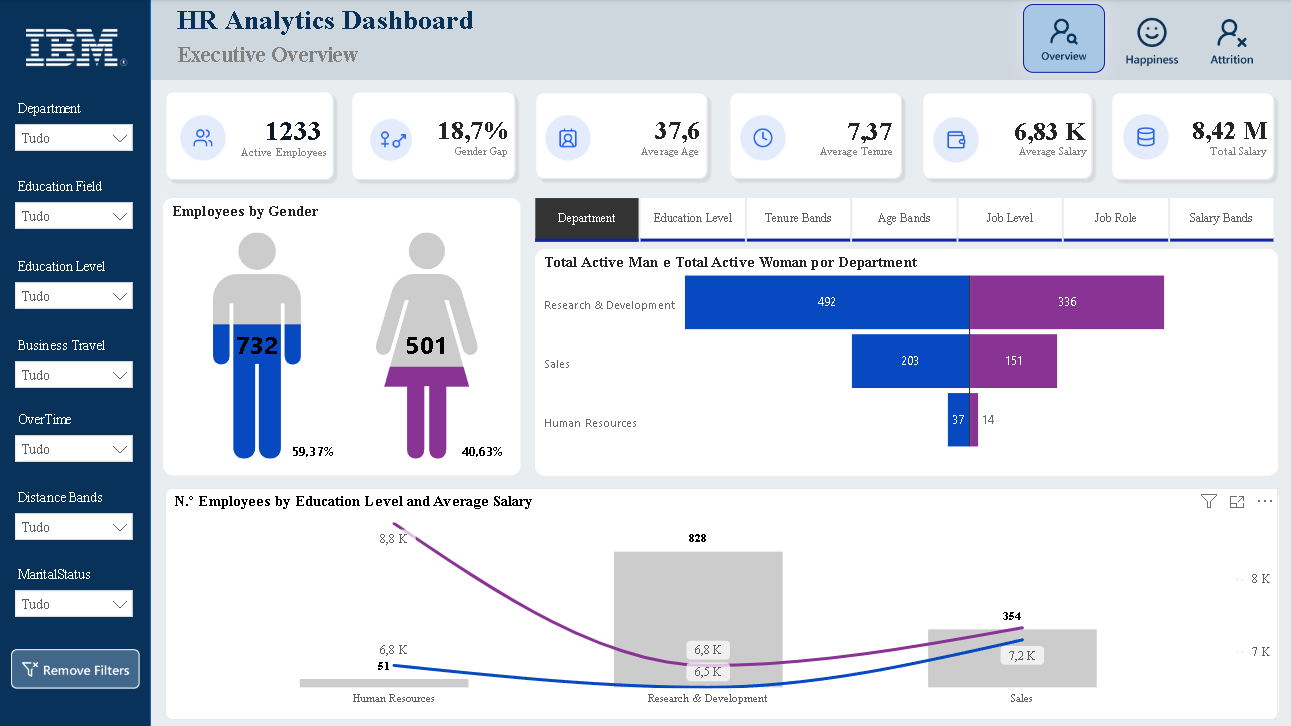

What the dashboard file says about the page in this screenshot:
{"tool":"powerbi","page":{"name":"Overview","canvas":[1280,720],"ordinal":1},"visuals":[{"type":"shape","box":[128.6,0,1152,80],"z":0},{"type":"shape","box":[0,0,152,720],"z":1000},{"type":"shape","box":[343.7,84.7,174.3,100],"z":1000,"group":"g2"},{"type":"image","box":[23.1,8,111.7,79.8],"z":2000},{"type":"shape","box":[525.6,85.7,182.5,98],"z":2000,"group":"g3"},{"type":"shape","box":[716.8,85.6,183,98],"z":3000,"group":"g4"},{"type":"slicer","fields":{"Values":["Fato.OverTime"]},"box":[8,403,135.7,77.8],"z":3000},{"type":"textbox","box":[172.4,0,360.8,51.4],"z":4000},{"type":"shape","box":[907.8,85.7,180.3,98],"z":4000,"group":"g5"},{"type":"textbox","box":[172.4,38.8,230.7,37.7],"z":5000},{"type":"shape","box":[1094.4,85.7,173.4,98.9],"z":5000,"group":"g6"},{"type":"cardVisual","fields":{"Data":["_Medidas.Gender Gap New"]},"box":[388.5,100.8,127.7,50],"z":6000,"group":"g2"},{"type":"slicer","fields":{"Values":["D_BusinessTravel.BusinessTravel"]},"box":[8,329.8,135.7,74],"z":6000},{"type":"shape","box":[160,84.4,178.6,100],"z":7000,"group":"g1"},{"type":"slicer","fields":{"Values":["D_Education.EducationLevel"]},"box":[8,251.9,135.7,78.8],"z":7000},{"type":"cardVisual","fields":{"Data":["_Medidas.Average Age"]},"box":[567.1,102.2,139.5,45.5],"z":8000,"group":"g3"},{"type":"slicer","fields":{"Values":["Fato.Distancy Bands"]},"box":[8,480,135.7,76.9],"z":8000},{"type":"slicer","fields":{"Values":["D_MaritalStatus.MaritalStatus"]},"box":[8,556,135.7,79.7],"z":9000},{"type":"image","box":[8.5,629,136.6,64.5],"z":10000},{"type":"image","box":[1013.7,4.9,81,68.5],"z":11000},{"type":"cardVisual","fields":{"Data":["_Medidas.Total Monthly Salary"]},"box":[1162.3,103.9,110.8,44.6],"z":11000,"group":"g6"},{"type":"image","box":[1098.8,8.5,82.6,63.6],"z":12000},{"type":"textbox","box":[393.2,137.5,116.9,41.9],"z":12000,"group":"g2"},{"type":"textbox","box":[762.5,136.9,127.5,43.1],"z":12500,"group":"g4"},{"type":"image","box":[1179.4,8.5,81.6,63.6],"z":13000},{"type":"slicer","fields":{"Values":["D_Department.Department"]},"box":[8,96,135.7,77.8],"z":14000},{"type":"textbox","box":[570.7,136.7,127.5,43.1],"z":14000,"group":"g3"},{"type":"textbox","box":[943.8,137.5,138.8,45],"z":14375,"group":"g5"},{"type":"cardVisual","fields":{"Data":["_Medidas.AVG SALARY"]},"box":[951.6,103.9,135.4,46.2],"z":14750,"group":"g5"},{"type":"slicer","fields":{"Values":["D_Education.EducationField"]},"box":[8,173,135.7,79.7],"z":15000},{"type":"PBI_CV_73744D90_4DC9_4F18_8BA5_EE8FA5C98035","title":"Employees by Gender","fields":{"Columns":["D_Gender.Gender"],"Values":["_Medidas.Distrib. Gender %","_Medidas.Total Active Employees"]},"box":[164.4,196.7,353.3,274.4],"z":16000},{"type":"textbox","box":[1110.8,137.5,148.3,45],"z":17000,"group":"g6"},{"type":"slicer","fields":{"Values":["Parameter Overview.Parameter Overview"]},"box":[508.9,190,771.1,56.7],"z":17000},{"type":"image","box":[351,111.3,77,55],"z":18000,"group":"g2"},{"type":"TornadoChart1452517688218","fields":{"Category":["D_Department.Department"],"Values":["_Medidas.Total Homens Ativos","_Medidas.Total Mulheres Ativas"]},"box":[531.1,246.7,734.4,224.4],"z":18000},{"type":"textbox","box":[211.9,137.5,118.8,41.9],"z":19000,"group":"g1"},{"type":"lineStackedColumnComboChart","title":" N.º Employees by Education Level and Average Salary ","fields":{"Category":["D_Department.Department"],"Y":["_Medidas.Total Active Employees"],"Y2":["_Medidas.Average Salary Male","_Medidas.Average Salary Female"]},"box":[165.6,483.3,1100,228.9],"z":19000},{"type":"group","id":"g1","title":"Grupo 1","box":[160,84.4,188.5,100],"z":20000},{"type":"image","box":[525.6,109.2,77,55],"z":20000,"group":"g3"},{"type":"group","id":"g2","title":"Grupo 2","box":[343.7,84.7,174.3,100],"z":21000},{"type":"image","box":[717.9,109,77,55],"z":21000,"group":"g4"},{"type":"group","id":"g3","title":"Grupo 3","box":[525.6,85.7,182.5,98],"z":22000},{"type":"image","box":[908.8,111,77.9,55],"z":22000,"group":"g5"},{"type":"group","id":"g4","title":"Grupo 4","box":[716.8,85.6,183,98],"z":23000},{"type":"image","box":[1096.4,108.9,77,55],"z":23000,"group":"g6"},{"type":"group","id":"g5","title":"Grupo 5","box":[907.8,85.7,180.3,98],"z":24000},{"type":"group","id":"g6","title":"Grupo 6","box":[1094.4,85.7,178.6,98.9],"z":25000},{"type":"image","box":[165.4,108.7,77,55.5],"z":25000,"group":"g1"},{"type":"cardVisual","fields":{"Data":["_Medidas.Active Employees"]},"box":[237.7,103.8,110.8,44.6],"z":27000,"group":"g1"},{"type":"cardVisual","fields":{"Data":["_Medidas.Average Tenure"]},"box":[762.3,104.7,133.8,43.8],"z":45000,"group":"g4"}]}

Visuals, with their boxes on the page's 1280x720 design canvas (x1, y1, x2, y2). These are canvas units, not pixel positions in the 1291x726 screenshot, which may show the page scaled, cropped or inside an application window:
shape: (129,0,1281,80)
shape: (0,0,152,720)
shape: (344,85,518,185)
image: (23,8,135,88)
shape: (526,86,708,184)
shape: (717,86,900,184)
slicer - Fato.OverTime: (8,403,144,481)
textbox: (172,0,533,51)
shape: (908,86,1088,184)
textbox: (172,39,403,76)
shape: (1094,86,1268,185)
cardVisual - _Medidas.Gender Gap New: (388,101,516,151)
slicer - D_BusinessTravel.BusinessTravel: (8,330,144,404)
shape: (160,84,339,184)
slicer - D_Education.EducationLevel: (8,252,144,331)
cardVisual - _Medidas.Average Age: (567,102,707,148)
slicer - Fato.Distancy Bands: (8,480,144,557)
slicer - D_MaritalStatus.MaritalStatus: (8,556,144,636)
image: (8,629,145,694)
image: (1014,5,1095,73)
cardVisual - _Medidas.Total Monthly Salary: (1162,104,1273,148)
image: (1099,8,1181,72)
textbox: (393,138,510,179)
textbox: (762,137,890,180)
image: (1179,8,1261,72)
slicer - D_Department.Department: (8,96,144,174)
textbox: (571,137,698,180)
textbox: (944,138,1083,182)
cardVisual - _Medidas.AVG SALARY: (952,104,1087,150)
slicer - D_Education.EducationField: (8,173,144,253)
"Employees by Gender" PBI_CV_73744D90_4DC9_4F18_8BA5_EE8FA5C98035: (164,197,518,471)
textbox: (1111,138,1259,182)
slicer - Parameter Overview.Parameter Overview: (509,190,1280,247)
image: (351,111,428,166)
TornadoChart1452517688218 - D_Department.Department x _Medidas.Total Homens Ativos: (531,247,1266,471)
textbox: (212,138,331,179)
" N.º Employees by Education Level and Average Salary " lineStackedColumnComboChart: (166,483,1266,712)
"Grupo 1" group: (160,84,348,184)
image: (526,109,603,164)
"Grupo 2" group: (344,85,518,185)
image: (718,109,795,164)
"Grupo 3" group: (526,86,708,184)
image: (909,111,987,166)
"Grupo 4" group: (717,86,900,184)
image: (1096,109,1173,164)
"Grupo 5" group: (908,86,1088,184)
"Grupo 6" group: (1094,86,1273,185)
image: (165,109,242,164)
cardVisual - _Medidas.Active Employees: (238,104,348,148)
cardVisual - _Medidas.Average Tenure: (762,105,896,148)
